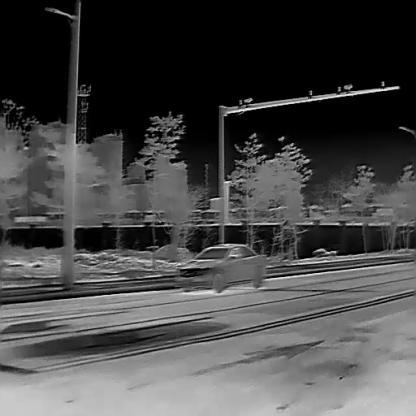car: (173, 242, 266, 293)
